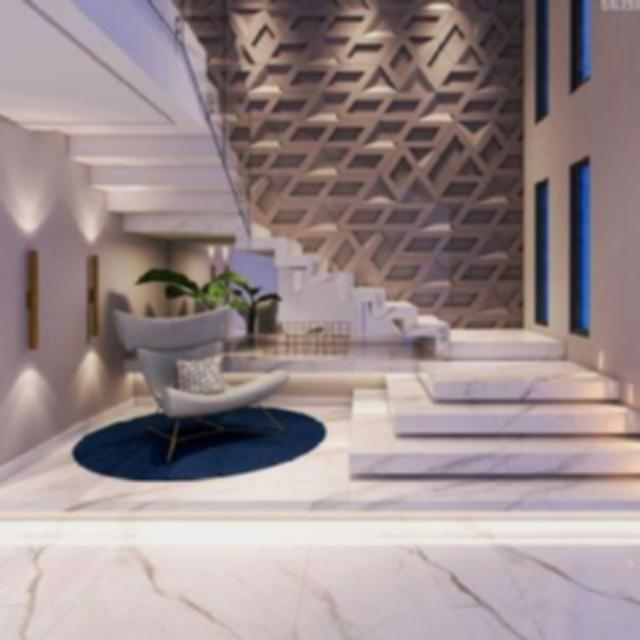stair: (248, 197, 640, 511)
